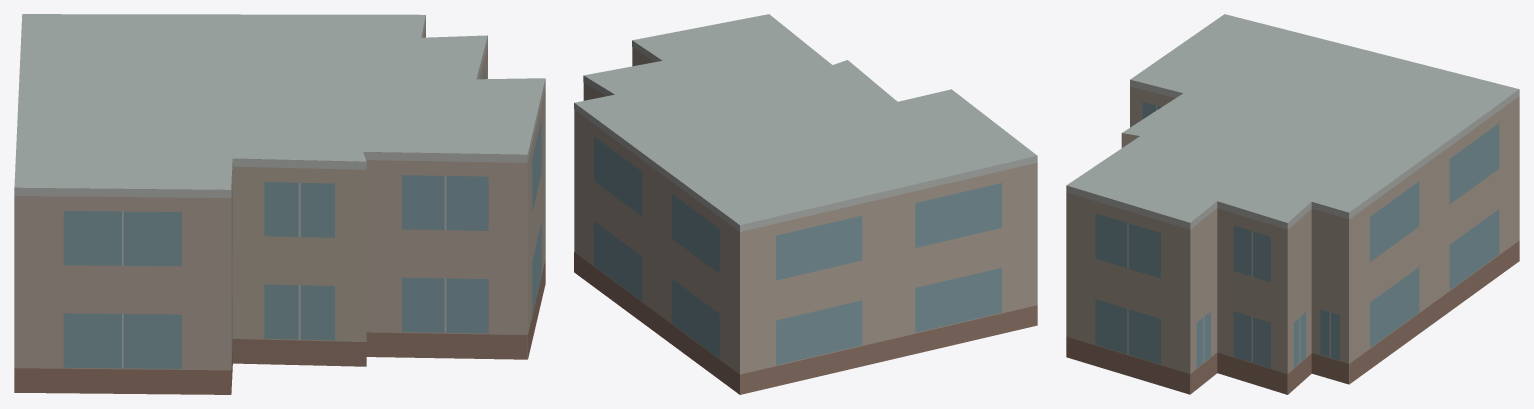
The model's file is survey-upis-32820270.glb.
3 views of the same model, side by side, from view 1: azimuth 30°, elevation 25°; view 2: azimuth 150°, elevation 25°; view 3: azimuth 270°, elevation 25° (orthographic). The views are drawn at different scales.
Parts seen in each view (by area): view 1: survey-upis-32820270.tmp; view 2: survey-upis-32820270.tmp; view 3: survey-upis-32820270.tmp.
Boxes of the visible parts, bbox=[...] form: survey-upis-32820270.tmp: bbox=[14, 14, 545, 394]; survey-upis-32820270.tmp: bbox=[574, 14, 1037, 394]; survey-upis-32820270.tmp: bbox=[1066, 14, 1519, 394].
Size of the model in its own units: 15.93 by 6.1 by 14.59.
